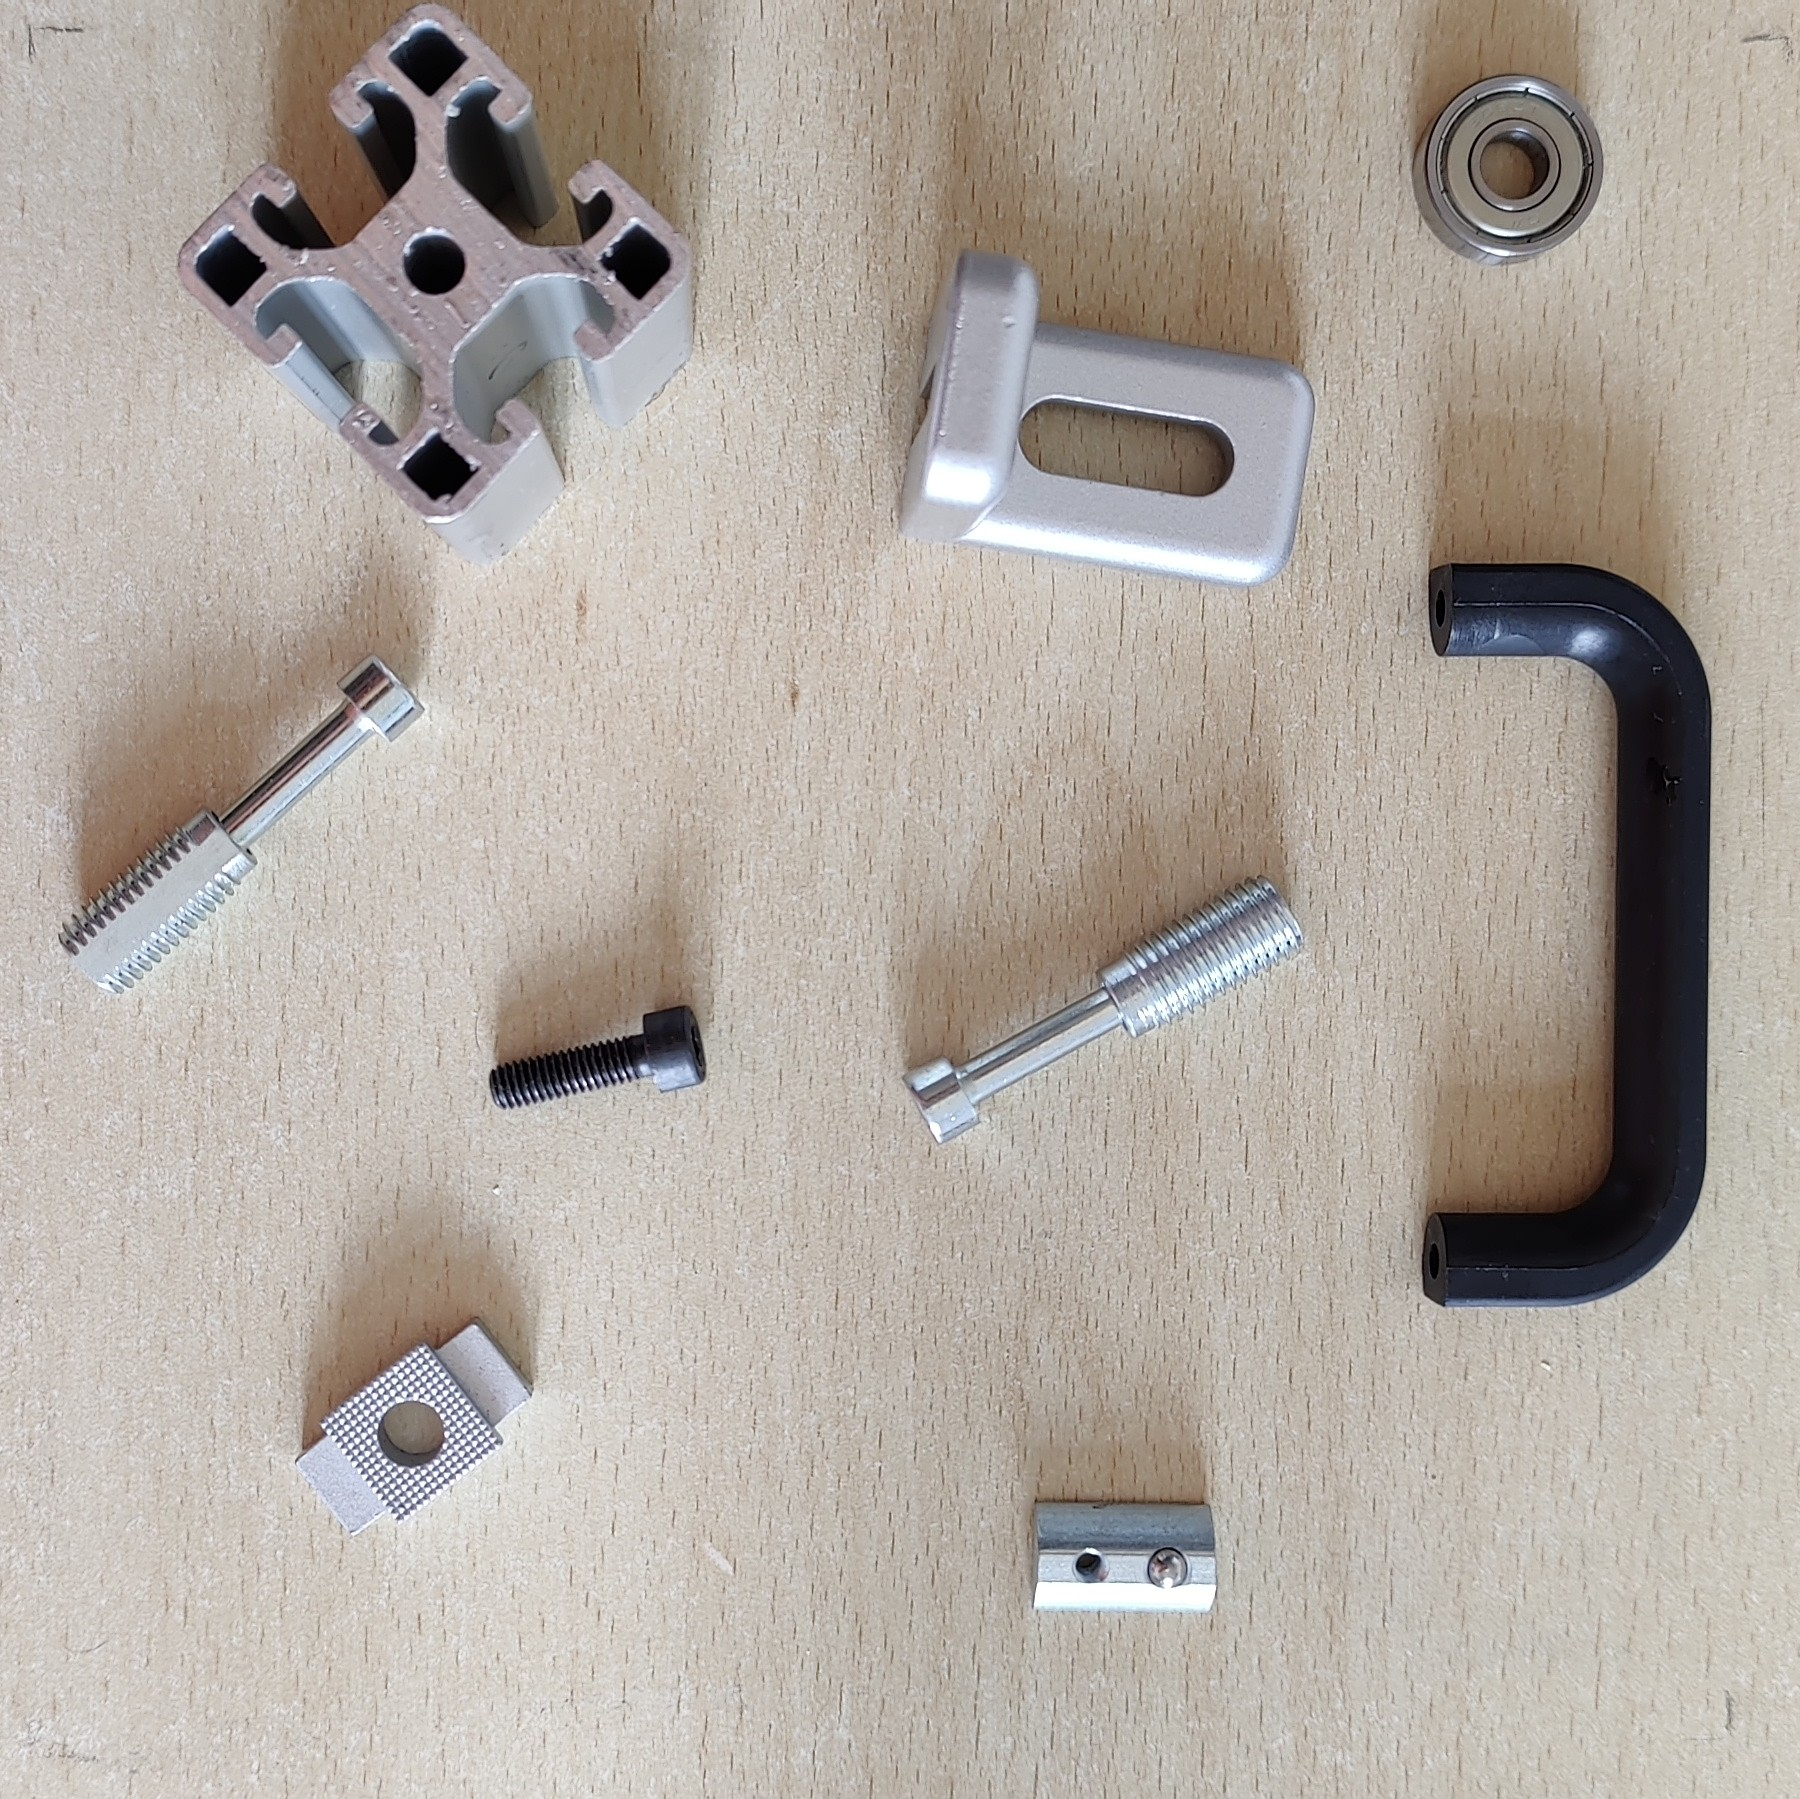Aluminium Extension: (175, 2, 698, 572)
Ball Bearing: (1408, 68, 1606, 267)
Multiwinkel: (898, 242, 1316, 591)
Pull Handle: (1416, 557, 1713, 1311)
Shoulder Socket Head Cap Screw: (54, 652, 428, 1000), (899, 871, 1308, 1150)
Socket Head Cap Screw: (486, 1002, 711, 1110)
T Nut Square: (295, 1308, 535, 1540)
T Spring Nut: (1028, 1496, 1224, 1619)
